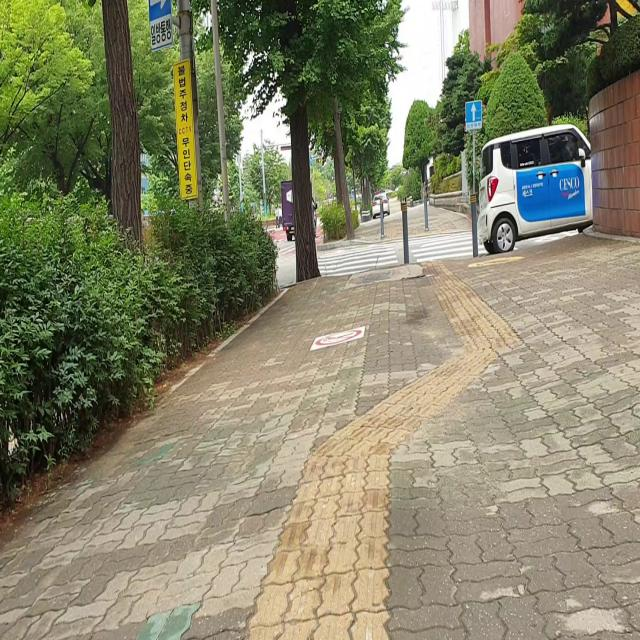횡단보도: (316, 230, 518, 279)
